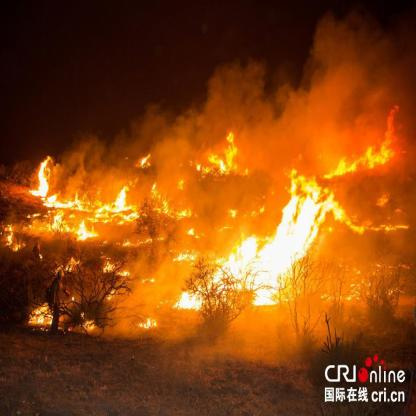fire: (0, 133, 406, 332)
